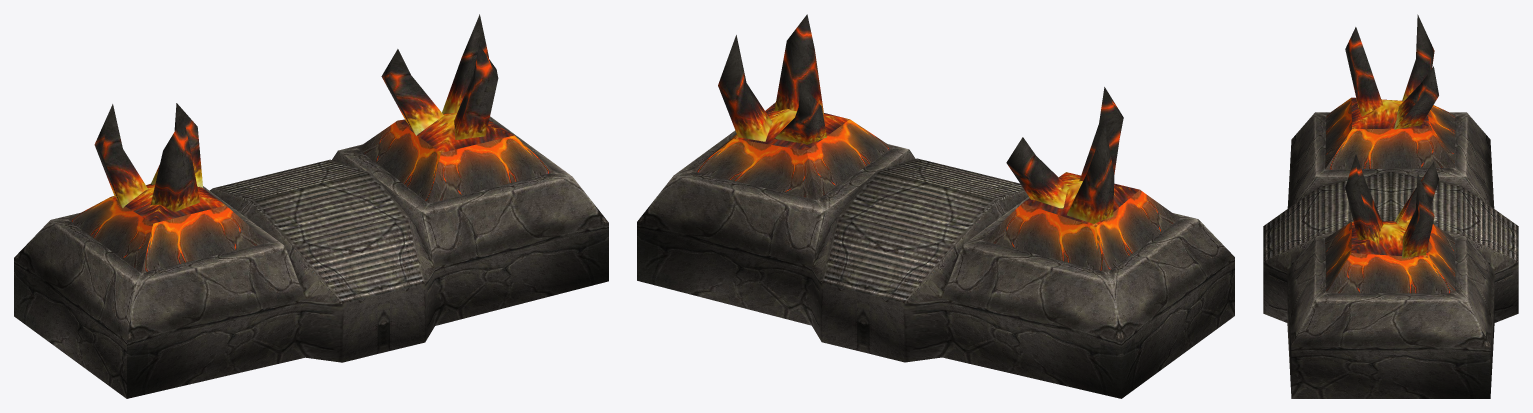
File: Altar-misc-02.FBX
The picture shows the model from 3 angles, left to right: view 1: azimuth 30°, elevation 25°; view 2: azimuth 150°, elevation 25°; view 3: azimuth 270°, elevation 25°; orthographic projection. The views are drawn at different scales.
Parts seen in each view (by area): view 1: Altar-misc-02; view 2: Altar-misc-02; view 3: Altar-misc-02.
Boxes of the visible parts, left/top/right/bottom form: Altar-misc-02: left=14, top=14, right=608, bottom=398; Altar-misc-02: left=637, top=14, right=1234, bottom=398; Altar-misc-02: left=1263, top=14, right=1518, bottom=398.
Size of the model in its own units: 5.33 by 2.47 by 2.77.
